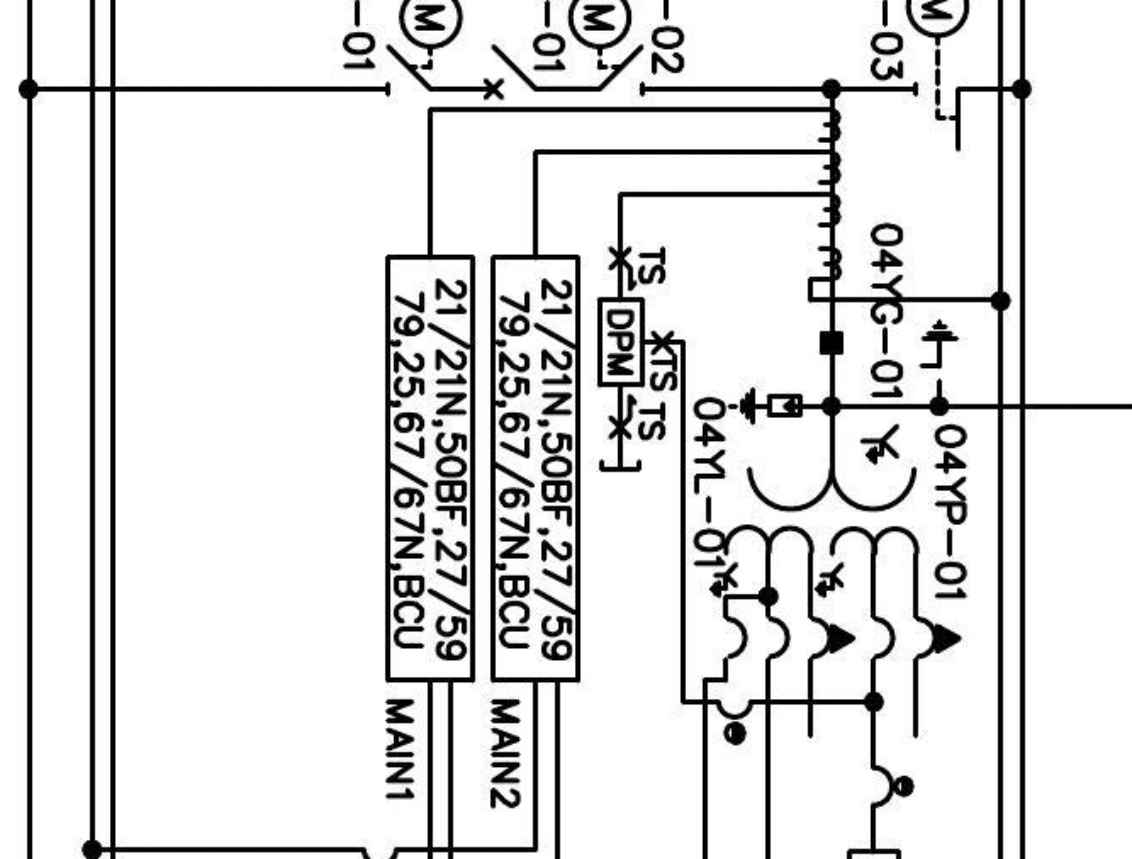115_breaker: (482, 44, 536, 101)
115_gs: (918, 316, 961, 386)
115_la: (726, 385, 803, 426)
115_vt_3p: (708, 422, 963, 662)
DPM: (596, 296, 645, 387)
